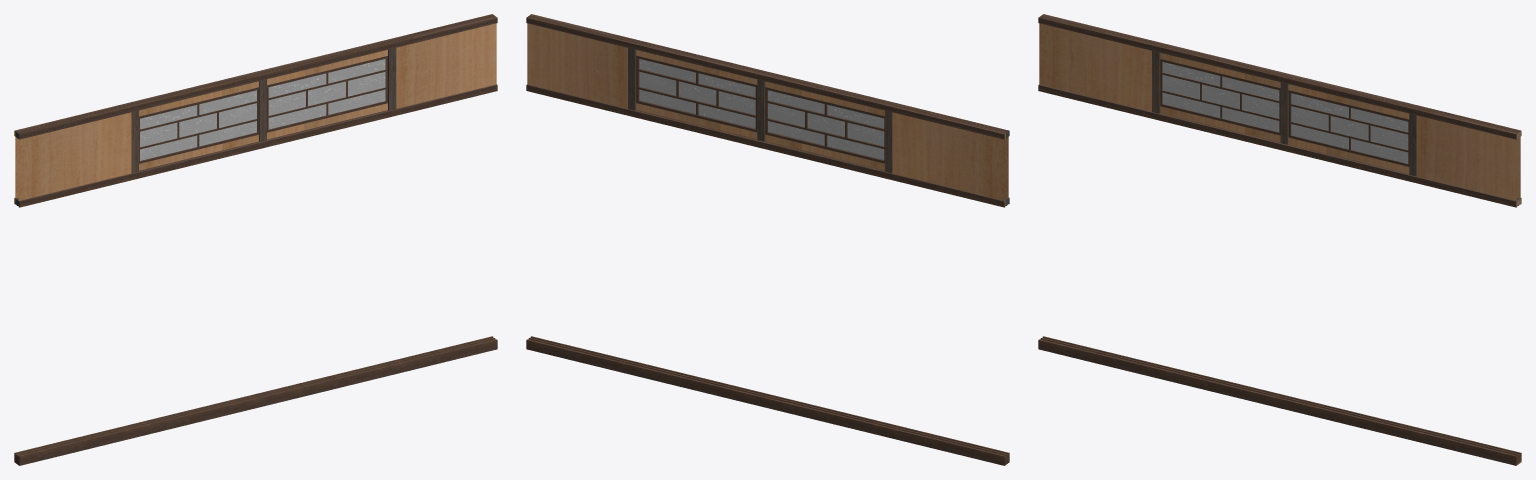
Rendered from jov_inwall_ranma_2t03.fbx.
The picture shows the model from 3 angles, left to right: view 1: azimuth 30°, elevation 25°; view 2: azimuth 150°, elevation 25°; view 3: azimuth 330°, elevation 25°; orthographic projection.
Parts seen in each view (by area): view 1: jov_inwall_ranma_2t03; view 2: jov_inwall_ranma_2t03; view 3: jov_inwall_ranma_2t03.
Part boxes in pixels (x1=…): jov_inwall_ranma_2t03: x1=14, y1=14, x2=497, y2=465; jov_inwall_ranma_2t03: x1=526, y1=14, x2=1009, y2=465; jov_inwall_ranma_2t03: x1=1038, y1=14, x2=1521, y2=465.
Size of the model in its own units: 440 by 292 by 8.22.
